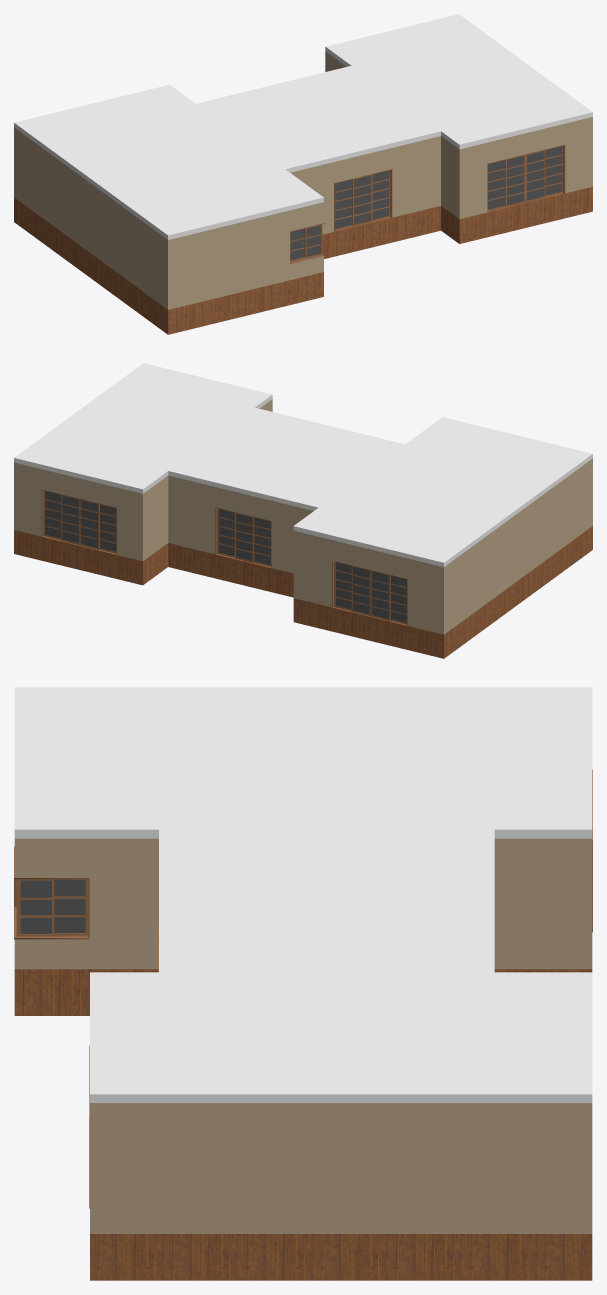
File: dojo-judo.glb
3 views of the same model, one above another, from view 1: azimuth 30°, elevation 25°; view 2: azimuth 150°, elevation 25°; view 3: azimuth 270°, elevation 25° (orthographic). The views are drawn at different scales.
Parts seen in each view (by area): view 1: Shell, Door003, Door001_Glass_0, Door001_WoodFloor_0, Window001_Glass_0, Window001_WoodFloor_0; view 2: Shell, Door002, Door010, Door008_Glass_0, Door008_WoodFloor_0; view 3: Shell, Window001_Glass_0, Window001_WoodFloor_0.
Part boxes in pixels (left/top/right/bottom): Shell: left=14, top=14, right=592, bottom=334; Door003: left=487, top=144, right=565, bottom=212; Door001_Glass_0: left=335, top=170, right=389, bottom=228; Door001_WoodFloor_0: left=334, top=169, right=392, bottom=231; Window001_Glass_0: left=290, top=225, right=320, bottom=260; Window001_WoodFloor_0: left=290, top=223, right=324, bottom=263; Shell: left=14, top=363, right=592, bottom=658; Door002: left=332, top=560, right=407, bottom=625; Door010: left=41, top=489, right=116, bottom=554; Door008_Glass_0: left=218, top=508, right=270, bottom=565; Door008_WoodFloor_0: left=215, top=507, right=271, bottom=567; Shell: left=14, top=687, right=592, bottom=1280; Window001_Glass_0: left=20, top=879, right=85, bottom=933; Window001_WoodFloor_0: left=14, top=846, right=89, bottom=939.
Bounding box in the file's own units: 2000 × 427 × 1203.
Materials: 22 (4 with a texture image).
